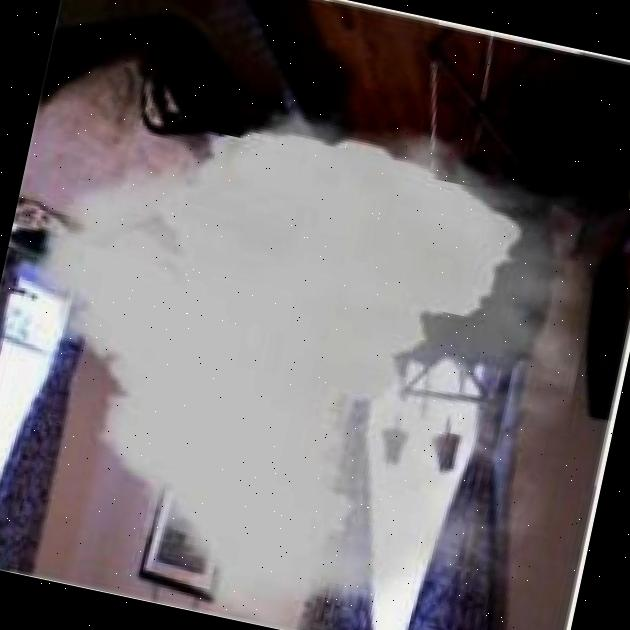smoke: (0, 57, 619, 630)
